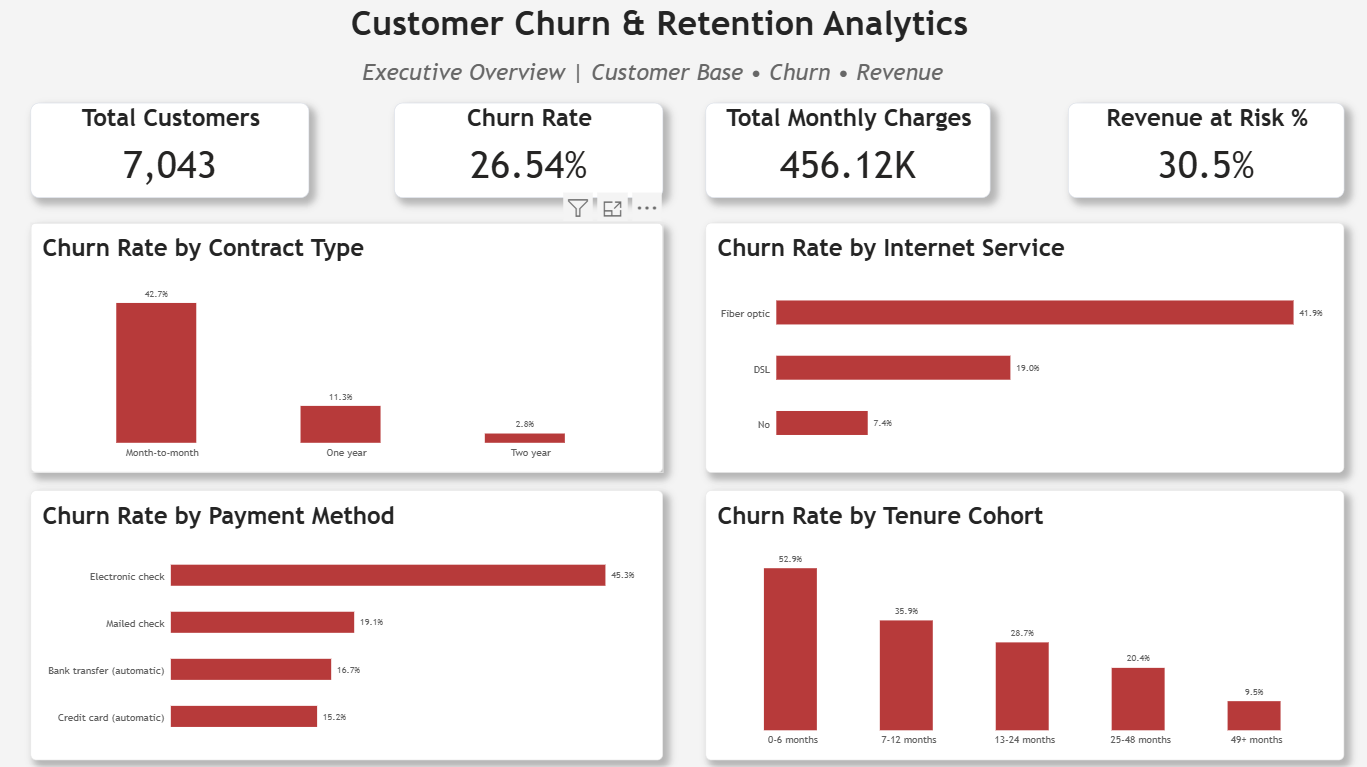

This screenshot's page, from the dashboard's own definition file:
{"tool":"powerbi","page":{"name":"Executive Overview","canvas":[1920,1080],"ordinal":0},"visuals":[{"type":"textbox","box":[10.5,0,1909.9,130.8],"z":0},{"type":"cardVisual","title":"Total Customers","fields":{"Data":["telco_churn_cleaned.Total Customers"]},"box":[45.3,144.8,389,132.6],"z":1000},{"type":"cardVisual","title":"Churn Rate ","fields":{"Data":["telco_churn_cleaned.Churn Rate"]},"box":[552.9,144.8,375,132.6],"z":2000},{"type":"cardVisual","title":"Total Monthly Charges","fields":{"Data":["telco_churn_cleaned.Total Monthly Revenue"]},"box":[987.2,144.8,397.7,132.6],"z":3000},{"type":"cardVisual","title":"Revenue at Risk %","fields":{"Data":["telco_churn_cleaned.Revenue at Risk %"]},"box":[1493,144.8,385.5,132.6],"z":4000},{"type":"clusteredColumnChart","title":"Churn Rate by Contract Type","fields":{"Category":["telco_churn_cleaned.Contract"],"Y":["telco_churn_cleaned.Churn Rate"]},"box":[45.3,312.2,882.6,348.8],"z":5000},{"type":"barChart","title":"Churn Rate by Internet Service","fields":{"Category":["telco_churn_cleaned.Internet Service"],"Y":["telco_churn_cleaned.Churn Rate"]},"box":[987.2,312.2,891.3,348.8],"z":6000},{"type":"barChart","title":"Churn Rate by Payment Method","fields":{"Category":["telco_churn_cleaned.Payment Method"],"Y":["telco_churn_cleaned.Churn Rate"]},"box":[45.3,685.5,882.6,376.7],"z":7000},{"type":"columnChart","title":"Churn Rate by Tenure Cohort","fields":{"Category":["telco_churn_cleaned.Tenure Cohort"],"Y":["telco_churn_cleaned.Churn Rate"]},"box":[987.2,685.5,891.3,376.7],"z":8000}]}

Visuals, with their boxes in screenshot pixels (x1, y1, x2, y2), scaled from the page's 1920x1080 canvas onto the 1367x767 screenshot:
textbox: (left=7, top=0, right=1366, bottom=93)
"Total Customers" cardVisual: (left=32, top=103, right=309, bottom=197)
"Churn Rate " cardVisual: (left=394, top=103, right=661, bottom=197)
"Total Monthly Charges" cardVisual: (left=703, top=103, right=986, bottom=197)
"Revenue at Risk %" cardVisual: (left=1063, top=103, right=1337, bottom=197)
"Churn Rate by Contract Type" clusteredColumnChart: (left=32, top=222, right=661, bottom=469)
"Churn Rate by Internet Service" barChart: (left=703, top=222, right=1337, bottom=469)
"Churn Rate by Payment Method" barChart: (left=32, top=487, right=661, bottom=754)
"Churn Rate by Tenure Cohort" columnChart: (left=703, top=487, right=1337, bottom=754)
